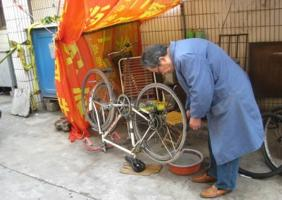person: (142, 38, 263, 198)
